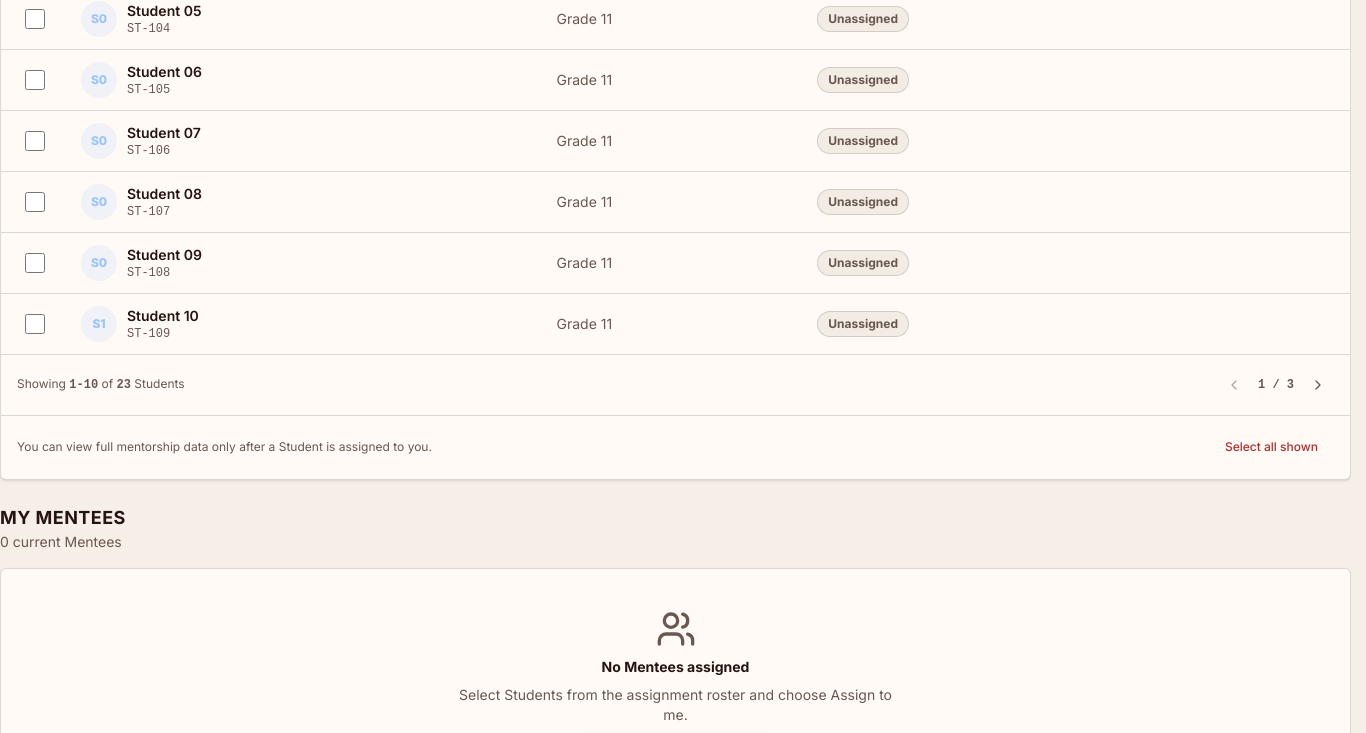
Scenario: TeacherMappingWorkspace › paginates the roster to 10 Students per page
(page scrolled)
Expected: the text "1 / 3" is shown, 1258,378 -> 1294,392
Expected: the button named "Previous page" is disabled, 1218,362 -> 1250,406
Click the button named "Next page": click(1318, 384) 1302,362 -> 1334,406
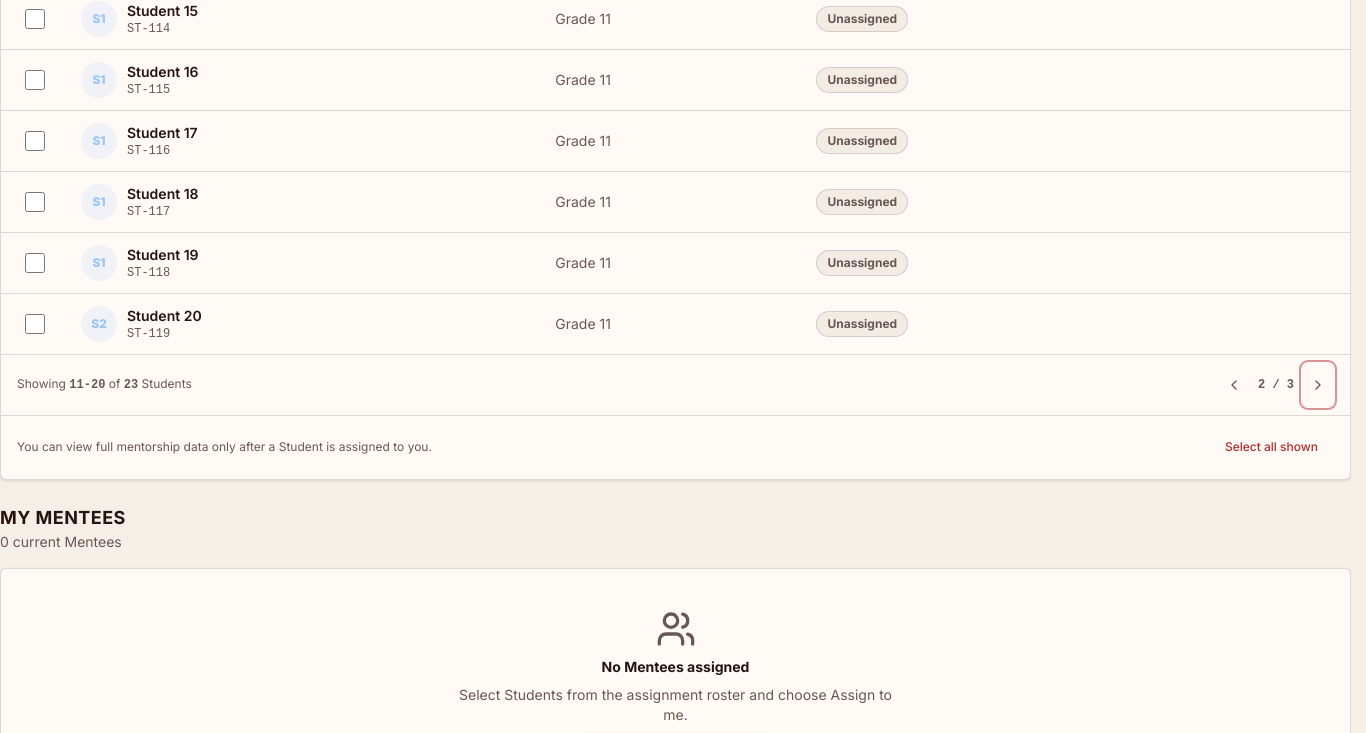
Now the text "2 / 3" is shown, box 1258,378 -> 1294,392
Click the button named "Next page": click(1318, 384) 1302,362 -> 1334,406
(page scrolled)
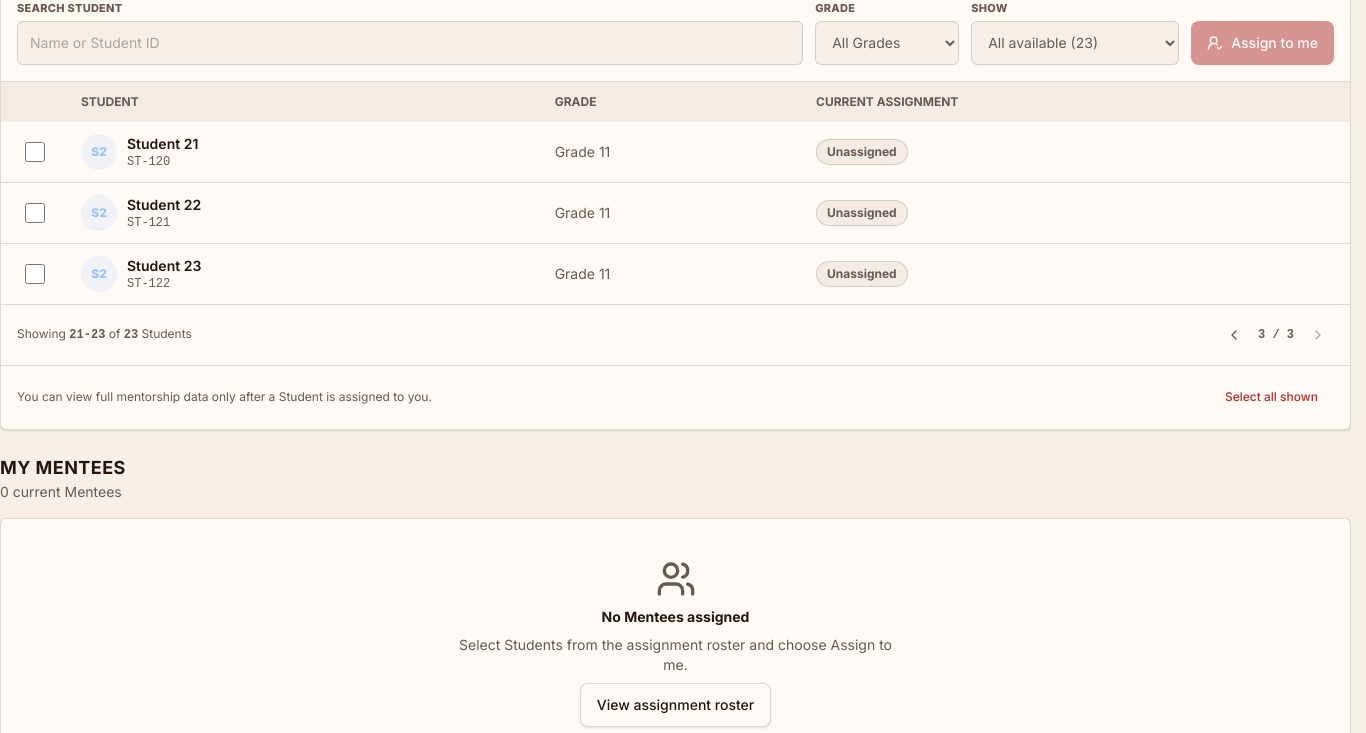
Expected: the number of rows is 4, 1,82 -> 1350,122; 1,122 -> 1350,182; 1,182 -> 1350,243; 1,243 -> 1350,304
Expected: the button named "Next page" is disabled, 1302,312 -> 1334,356
Click the button "Select all shown": click(1272, 397) 1209,375 -> 1334,419
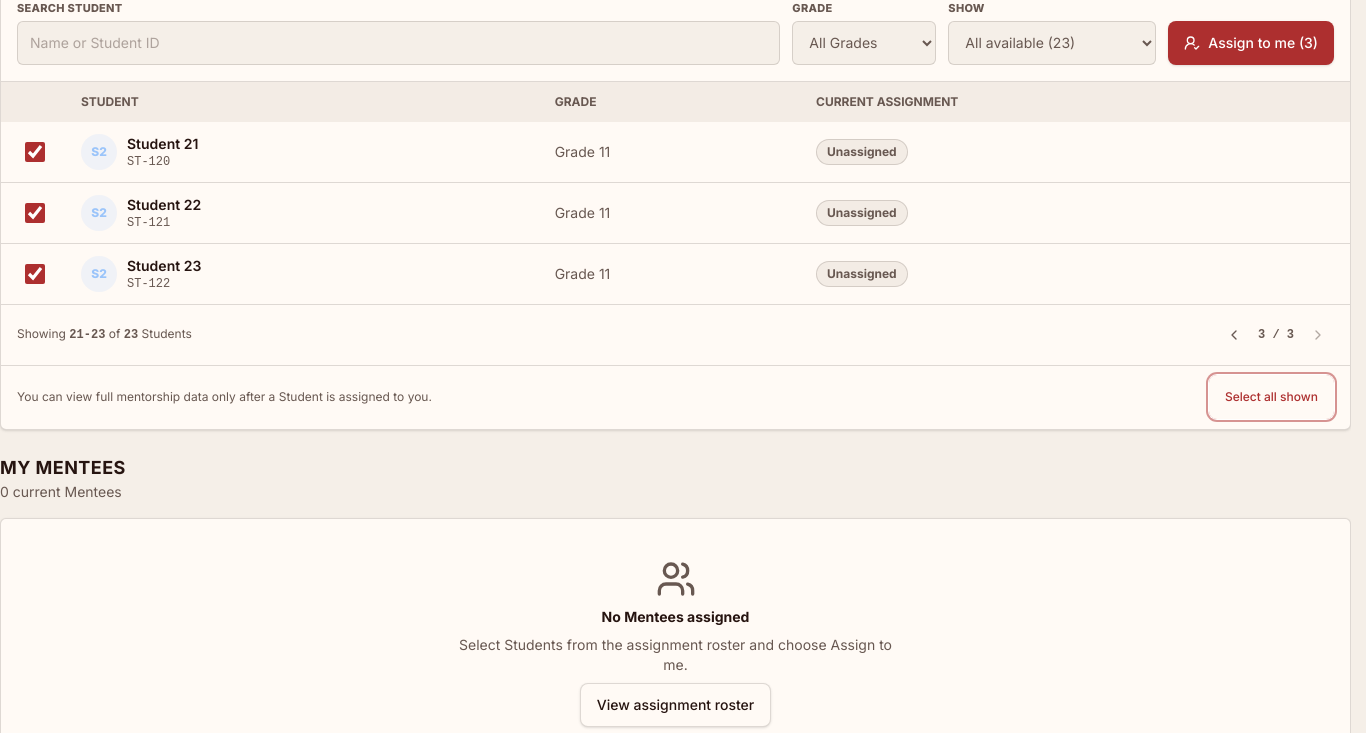
Now the button "Assign to me (3)" is enabled, box 1168,20 -> 1334,64
In the field named "Search Students": (399, 42) 17,20 -> 780,64, type "Student 0"
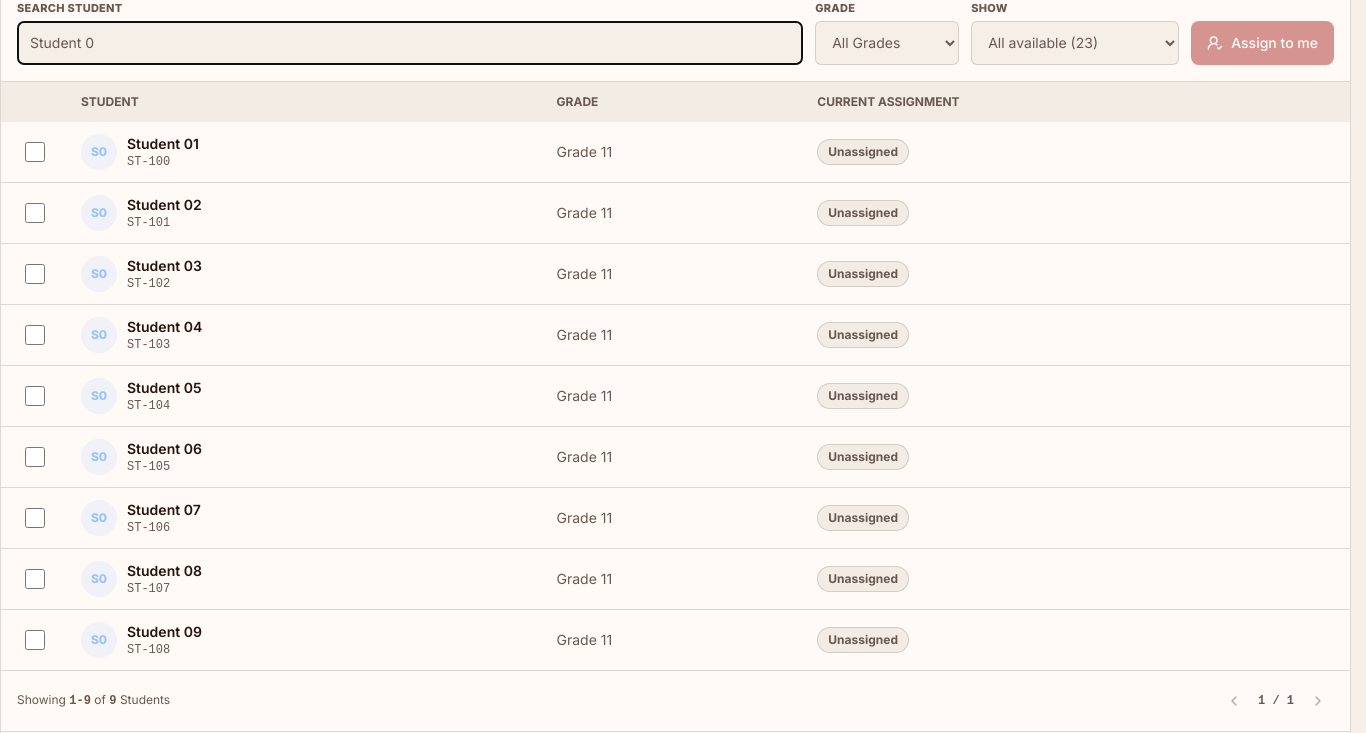
Now the text "1 / 1" is shown, box 1258,694 -> 1294,708
Now the button "Assign to me" is disabled, box 1191,20 -> 1334,64
Now the text "Student 09" is shown, box 127,622 -> 202,642
